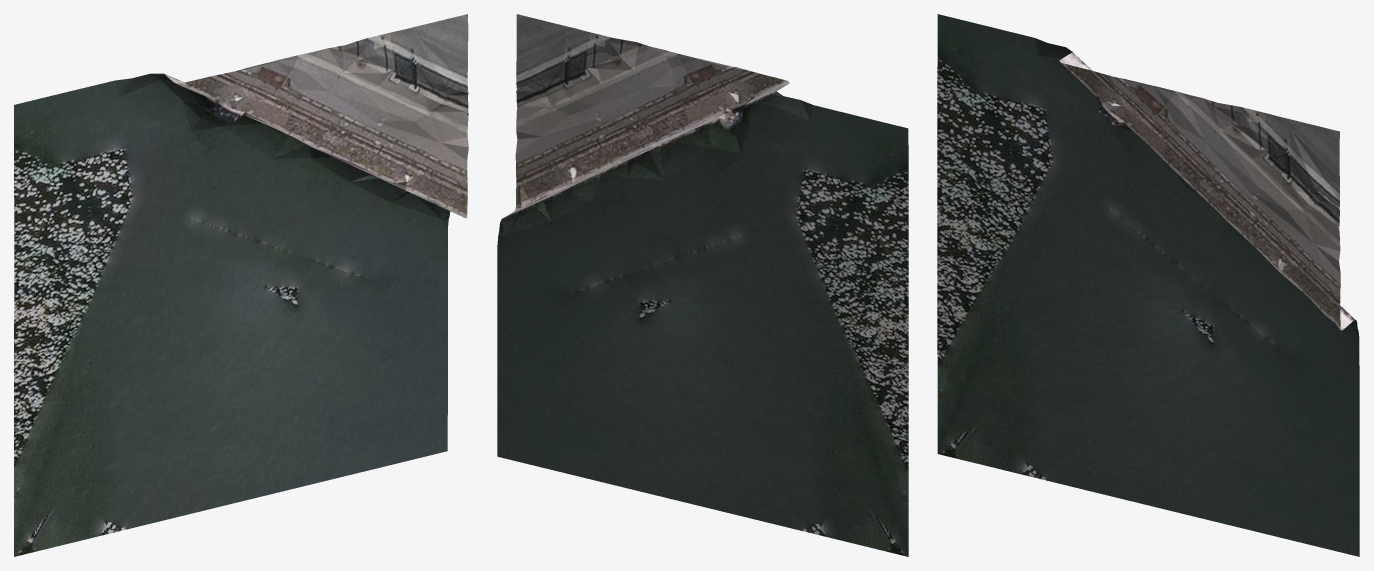
File: Tile_+038_+019_L20_0000110.obj
3 renders of one model, left to right at view 1: azimuth 30°, elevation 25°; view 2: azimuth 150°, elevation 25°; view 3: azimuth 330°, elevation 25°, orthographic. The views are drawn at different scales.
Bounding box in the file's own units: 31.5 × 31.38 × 2.83.
Materials: 1 (1 with a texture image).
